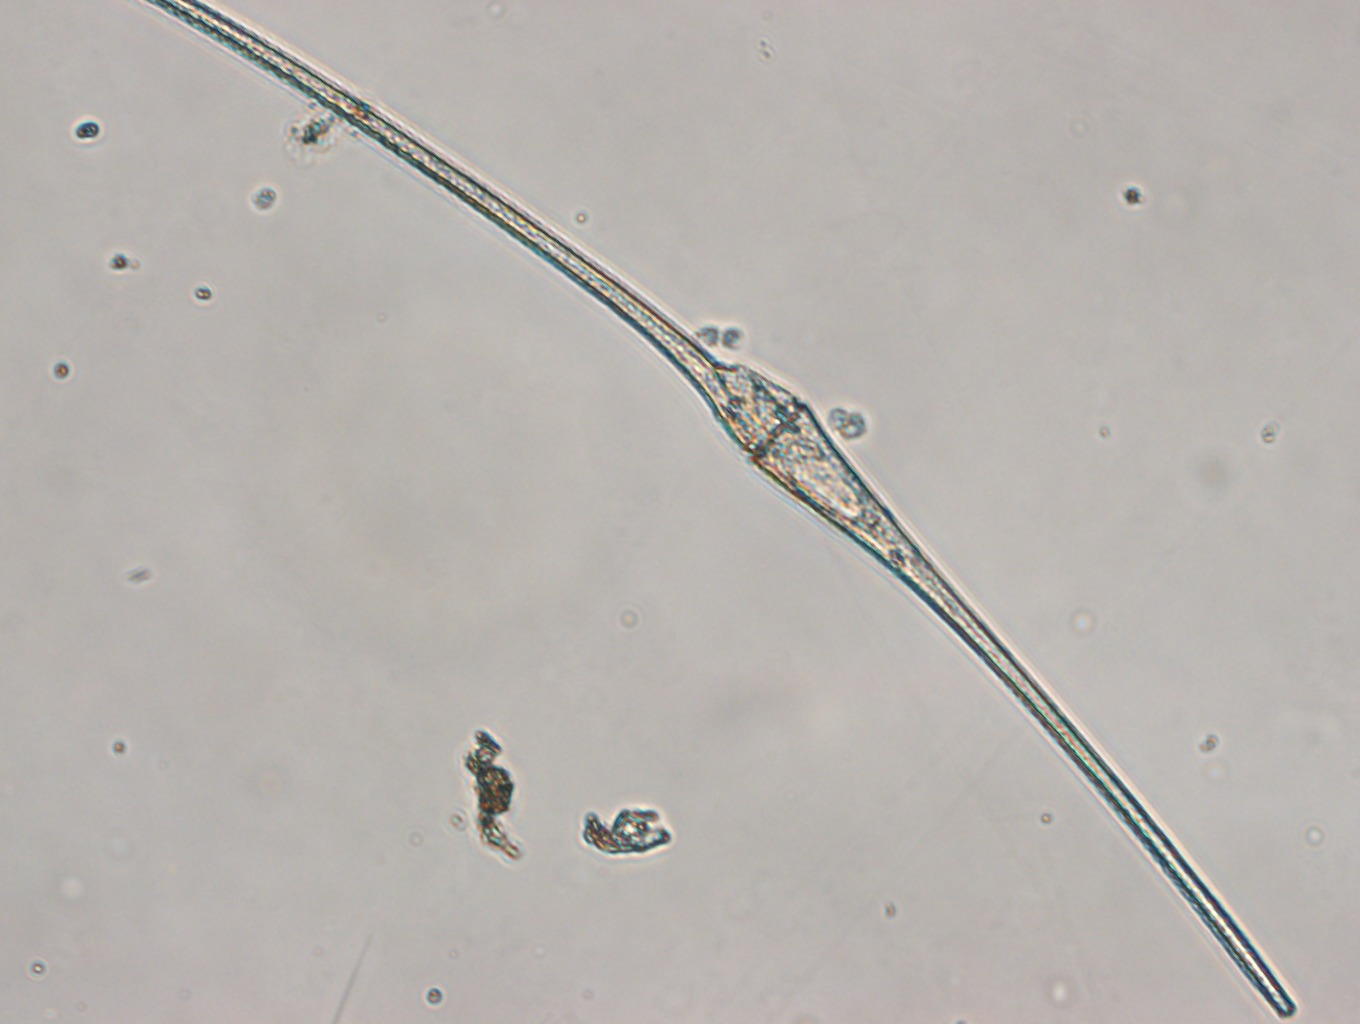ceratium fusus: (131, 5, 1302, 1024)
